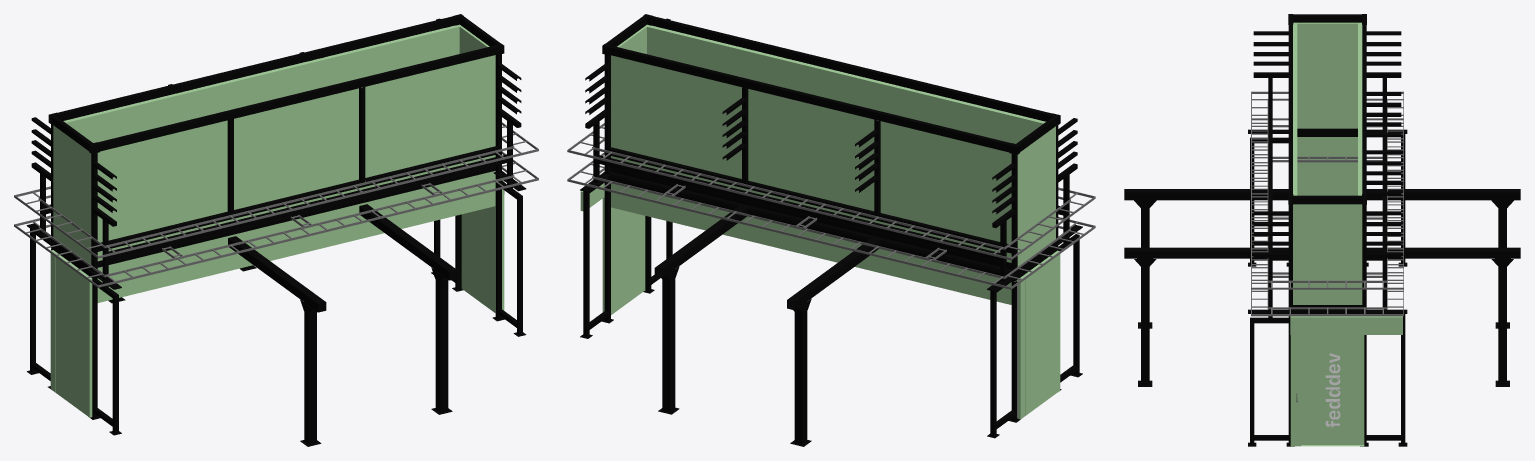
Rendered from Pod_fedddev.glb.
3 views of the same model, side by side, from view 1: azimuth 30°, elevation 25°; view 2: azimuth 150°, elevation 25°; view 3: azimuth 270°, elevation 25° (orthographic). The views are drawn at different scales.
Visible parts, largest first — view 1: Thermal_Cap.001, Thermal_Cap_Frame_Supports.001, Cable_Rack_HALF, Frame_W.001, Door_N.001, Door_S.001, Frame_E.001, Thermal_Chimney_Horizontal_Side_Support_W.001, Support_Vertical_Support_SW.001, Support_Vertical_Support_NW.001, Support_Horizontal_Support_N.001, Support_Horizontal_Support_S.001; view 2: Thermal_Cap.001, Thermal_Cap_Frame_Supports.001, Frame_E.001, Cable_Rack_HALF, Door_N.001, Door_S.001, Frame_W.001, Thermal_Chimney_Horizontal_Side_Support_E.001, Support_Vertical_Support_SE.001, Support_Vertical_Support_NE.001, Support_Horizontal_Support_S.001, Support_Horizontal_Support_N.001; view 3: Thermal_Cap.001, Door_S.001, Thermal_Cap_Frame_Supports.001, Cable_Rack_HALF, Frame_W.001, Frame_E.001, Support_Horizontal_Support_N.001, Support_Horizontal_Support_S.001, Door_N.001, Door_Frame.001, Support_Vertical_Support_SE.001, Support_Vertical_Support_SW.001 (+3 smaller).
Part boxes in pixels (box(x1,y1,x2,y2)): Thermal_Cap.001: box(53, 24, 495, 302); Thermal_Cap_Frame_Supports.001: box(48, 14, 504, 418); Cable_Rack_HALF: box(14, 122, 538, 287); Frame_W.001: box(88, 64, 526, 435); Door_N.001: box(50, 250, 92, 417); Door_S.001: box(461, 206, 495, 312); Frame_E.001: box(26, 18, 463, 388); Thermal_Chimney_Horizontal_Side_Support_W.001: box(97, 166, 495, 267); Support_Vertical_Support_SW.001: box(431, 267, 452, 414); Support_Vertical_Support_NW.001: box(300, 299, 321, 446); Support_Horizontal_Support_N.001: box(228, 236, 326, 312); Support_Horizontal_Support_S.001: box(359, 204, 457, 280); Thermal_Cap.001: box(611, 24, 1055, 304); Thermal_Cap_Frame_Supports.001: box(602, 14, 1060, 420); Frame_E.001: box(580, 64, 1020, 438); Cable_Rack_HALF: box(567, 123, 1095, 289); Door_N.001: box(1018, 250, 1060, 419); Door_S.001: box(602, 197, 644, 314); Frame_W.001: box(643, 18, 1082, 390); Thermal_Chimney_Horizontal_Side_Support_E.001: box(610, 167, 1011, 269); Support_Vertical_Support_SE.001: box(658, 266, 679, 414); Support_Vertical_Support_NE.001: box(790, 298, 811, 446); Support_Horizontal_Support_S.001: box(654, 205, 747, 277); Support_Horizontal_Support_N.001: box(787, 237, 880, 310); Thermal_Cap.001: box(1293, 22, 1362, 304); Door_S.001: box(1293, 335, 1364, 446); Thermal_Cap_Frame_Supports.001: box(1288, 14, 1401, 445); Cable_Rack_HALF: box(1251, 91, 1403, 316); Frame_W.001: box(1248, 31, 1294, 446); Frame_E.001: box(1360, 31, 1407, 446); Support_Horizontal_Support_N.001: box(1124, 189, 1520, 200); Support_Horizontal_Support_S.001: box(1124, 247, 1520, 258); Door_N.001: box(1297, 137, 1357, 195); Door_Frame.001: box(1290, 316, 1402, 446); Support_Vertical_Support_SE.001: box(1491, 258, 1513, 386); Support_Vertical_Support_SW.001: box(1134, 258, 1156, 386).
Size of the model in its own units: 8.25 by 4.88 by 7.04.
Materials: 4 (1 with a texture image).
